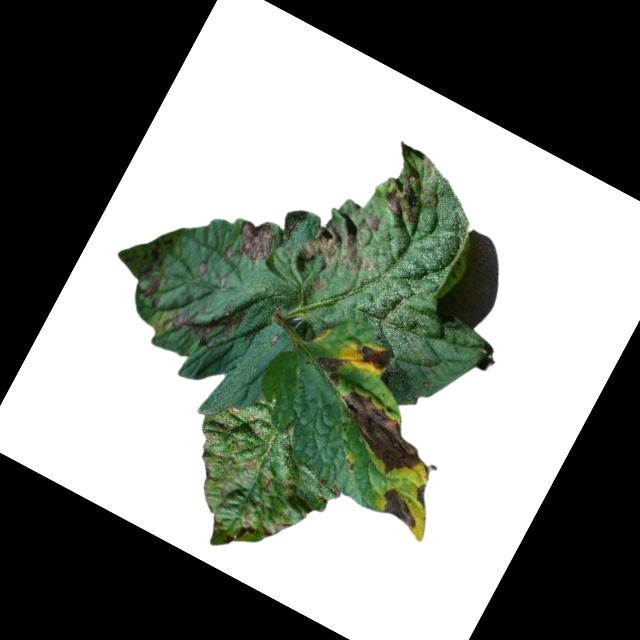Early_blight: (320, 382, 439, 487), (296, 190, 391, 285), (158, 272, 254, 362), (376, 167, 438, 229), (229, 209, 284, 267), (374, 484, 426, 532), (353, 335, 398, 380), (222, 505, 263, 553), (310, 347, 352, 388), (135, 273, 172, 312), (256, 510, 294, 545), (411, 481, 433, 506)
